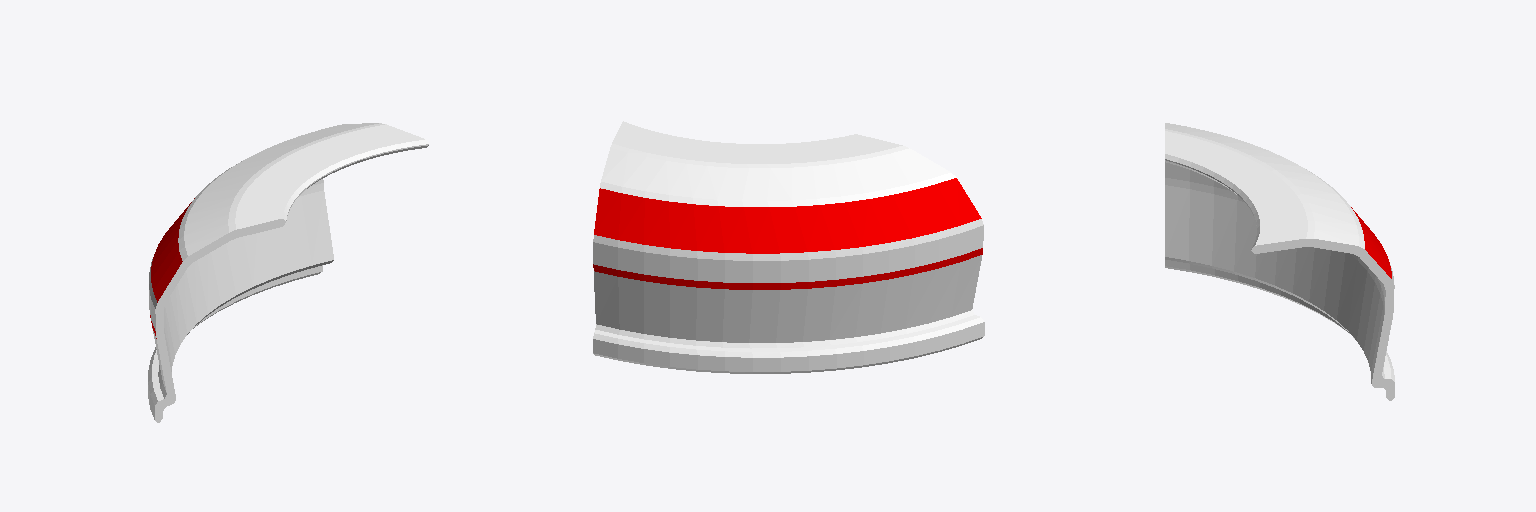
The model's file is buildcurve.obj.
3 renders of one model, left to right at view 1: azimuth 30°, elevation 25°; view 2: azimuth 150°, elevation 25°; view 3: azimuth 270°, elevation 25°, orthographic.
Visible parts, largest first — view 1: object1; view 2: object1; view 3: object1.
Boxes of the visible parts, box(x1,y1,x2,y2) form: object1: box(148, 123, 428, 422); object1: box(593, 121, 984, 373); object1: box(1165, 123, 1394, 400).
Bounding box in the file's own units: 37.07 × 19.46 × 23.3.